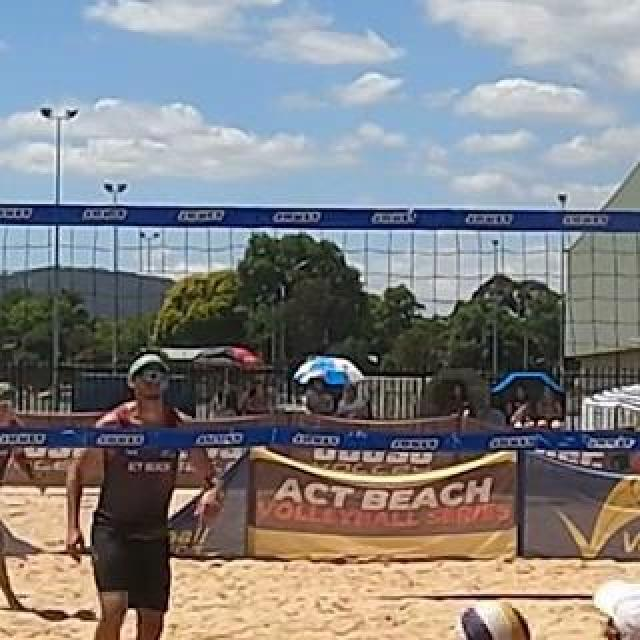volleyball: (458, 600, 530, 640)
